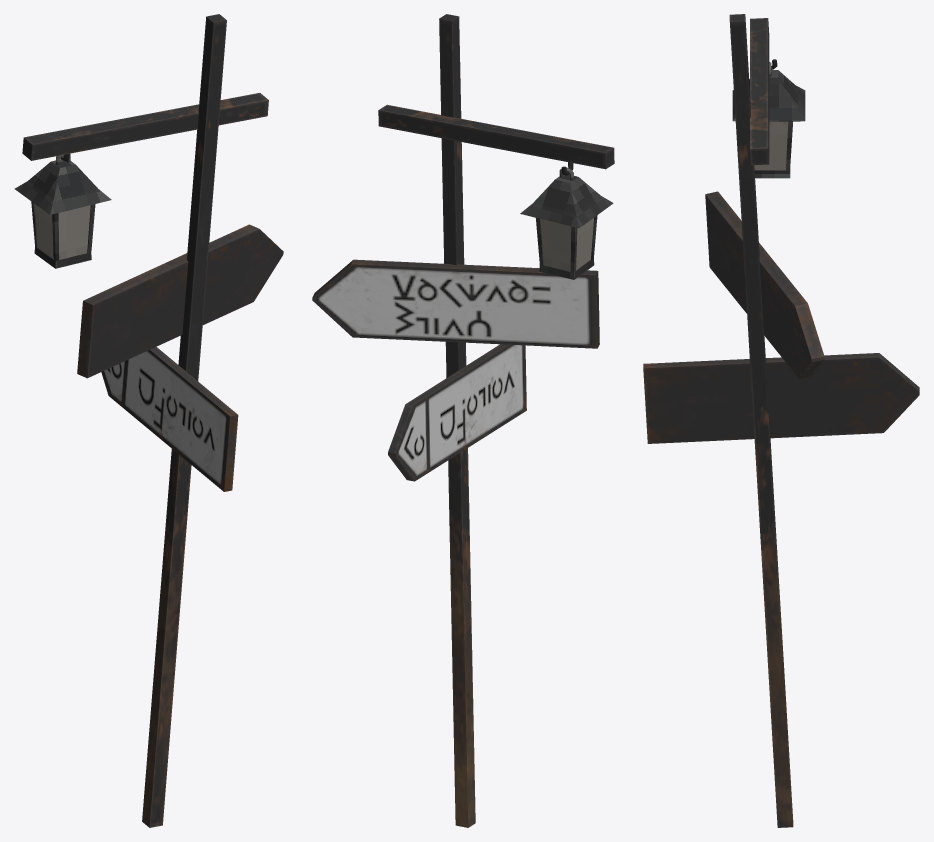
Rendered from objects_un_t01gatelamp01.gltf.
3 renders of one model, left to right at view 1: azimuth 30°, elevation 25°; view 2: azimuth 150°, elevation 25°; view 3: azimuth 270°, elevation 25°, orthographic. The views are drawn at different scales.
Parts seen in each view (by area): view 1: um_objects_un_t01gatelamp01_model_lod0Shape:objects_un_t01ga, nomerge_lamp_lod0_shape:lamp_objects_un_t01lamp01_lamp1; view 2: um_objects_un_t01gatelamp01_model_lod0Shape:objects_un_t01ga, nomerge_lamp_lod0_shape:lamp_objects_un_t01lamp01_lamp1; view 3: um_objects_un_t01gatelamp01_model_lod0Shape:objects_un_t01ga, nomerge_lamp_lod0_shape:lamp_objects_un_t01lamp01_lamp1.
Boxes of the visible parts, x1,y1,x2,y2 form: um_objects_un_t01gatelamp01_model_lod0Shape:objects_un_t01ga: [22, 14, 283, 827]; nomerge_lamp_lod0_shape:lamp_objects_un_t01lamp01_lamp1: [14, 153, 111, 268]; um_objects_un_t01gatelamp01_model_lod0Shape:objects_un_t01ga: [312, 14, 614, 827]; nomerge_lamp_lod0_shape:lamp_objects_un_t01lamp01_lamp1: [520, 162, 613, 279]; um_objects_un_t01gatelamp01_model_lod0Shape:objects_un_t01ga: [643, 14, 919, 827]; nomerge_lamp_lod0_shape:lamp_objects_un_t01lamp01_lamp1: [732, 59, 805, 178].
Size of what is drawn, in the model's own units: 1.39 by 3.84 by 1.16.
Materials: 3 (2 with a texture image).
